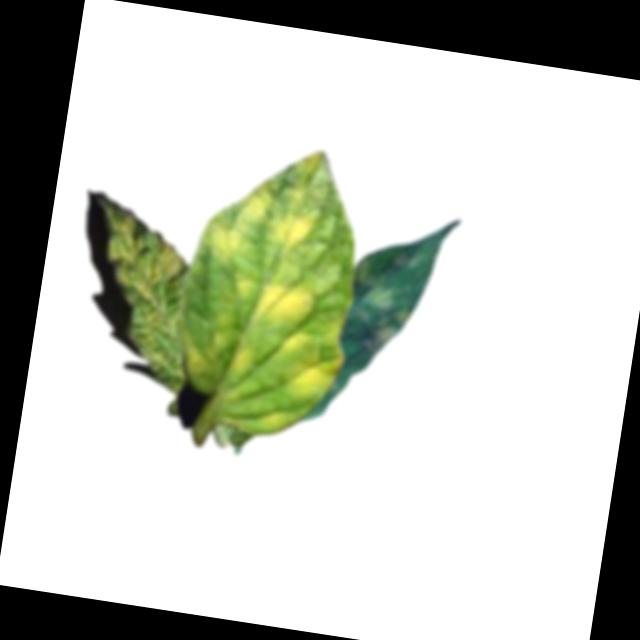Leaf_Mold: (78, 206, 211, 395), (231, 138, 328, 250), (344, 259, 417, 361), (218, 267, 316, 333), (265, 327, 349, 399), (198, 328, 257, 379), (199, 217, 243, 269)
